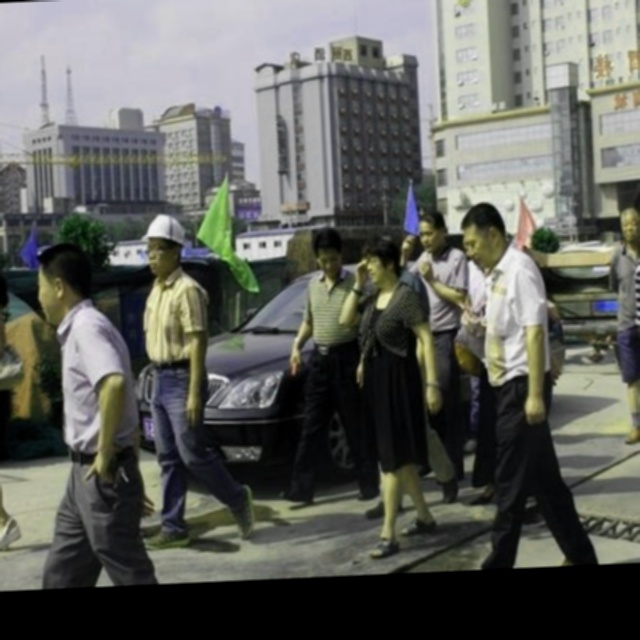Sin_Casco_Mascarrilla: (458, 200, 509, 269)
Sin_Chaleco: (632, 242, 640, 395)
